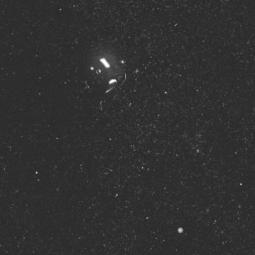proba_3_ocs: (63, 42, 138, 110)
